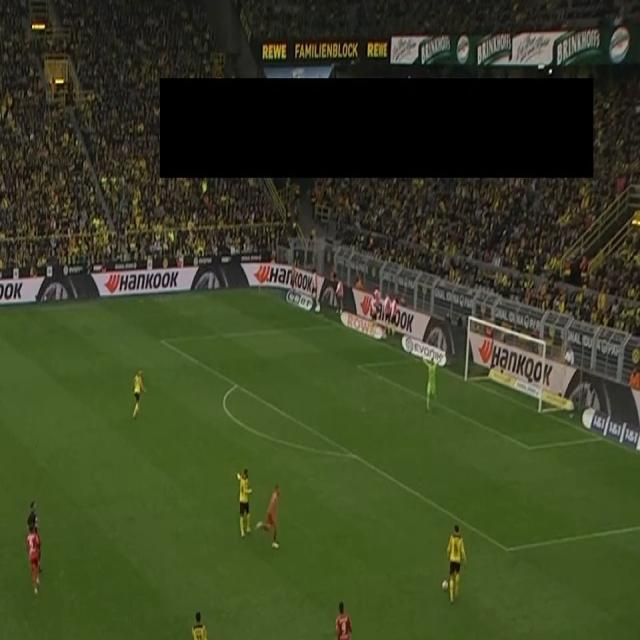ball: (442, 577, 449, 592)
